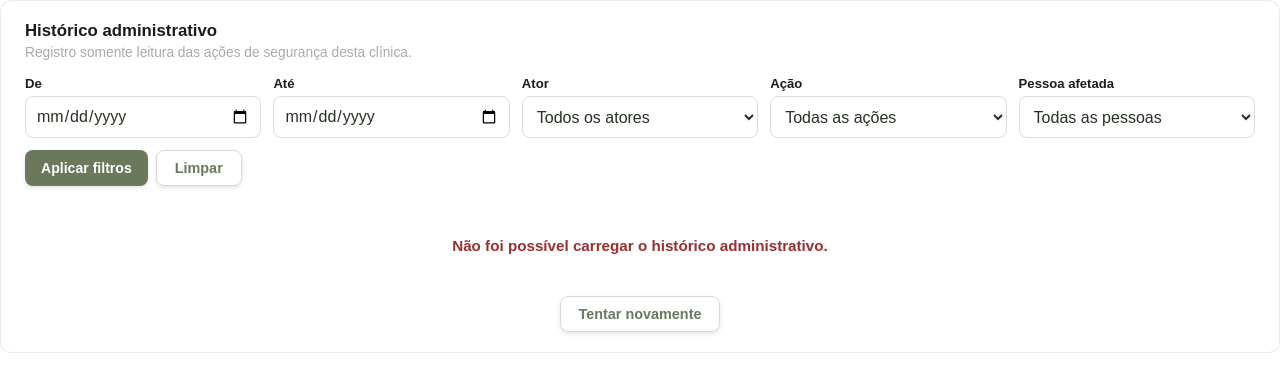
it: TeamAuditHistory › apresenta erro seguro e permite repetir
expect the text "Não foi possível carregar o histórico administrativo." is shown: met, box [452,236,828,254]
Click the button "Tentar novamente" at (640, 314), box [560,296,720,332]
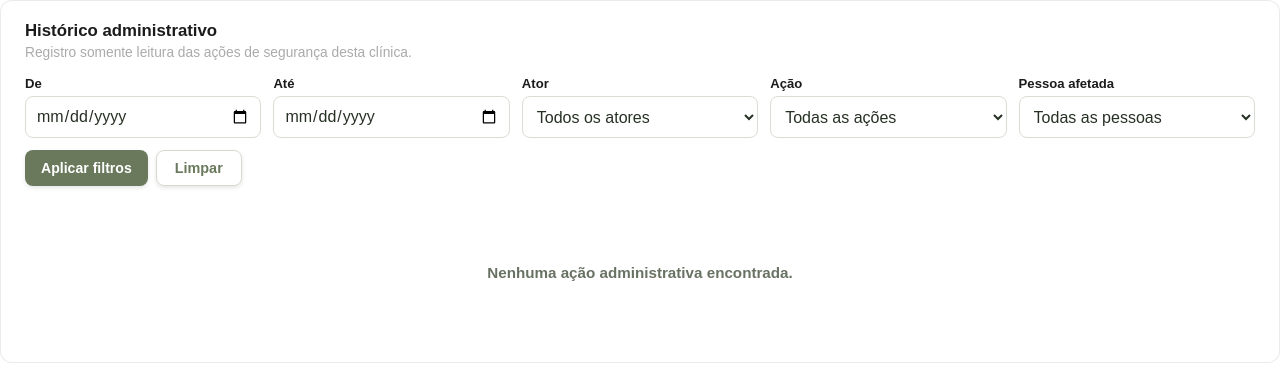
expect the text "Nenhuma ação administrativa encontrada." is shown: met, box [487,264,793,280]
